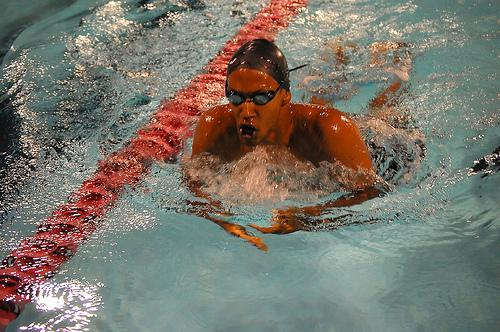swimmer: (184, 36, 418, 253)
